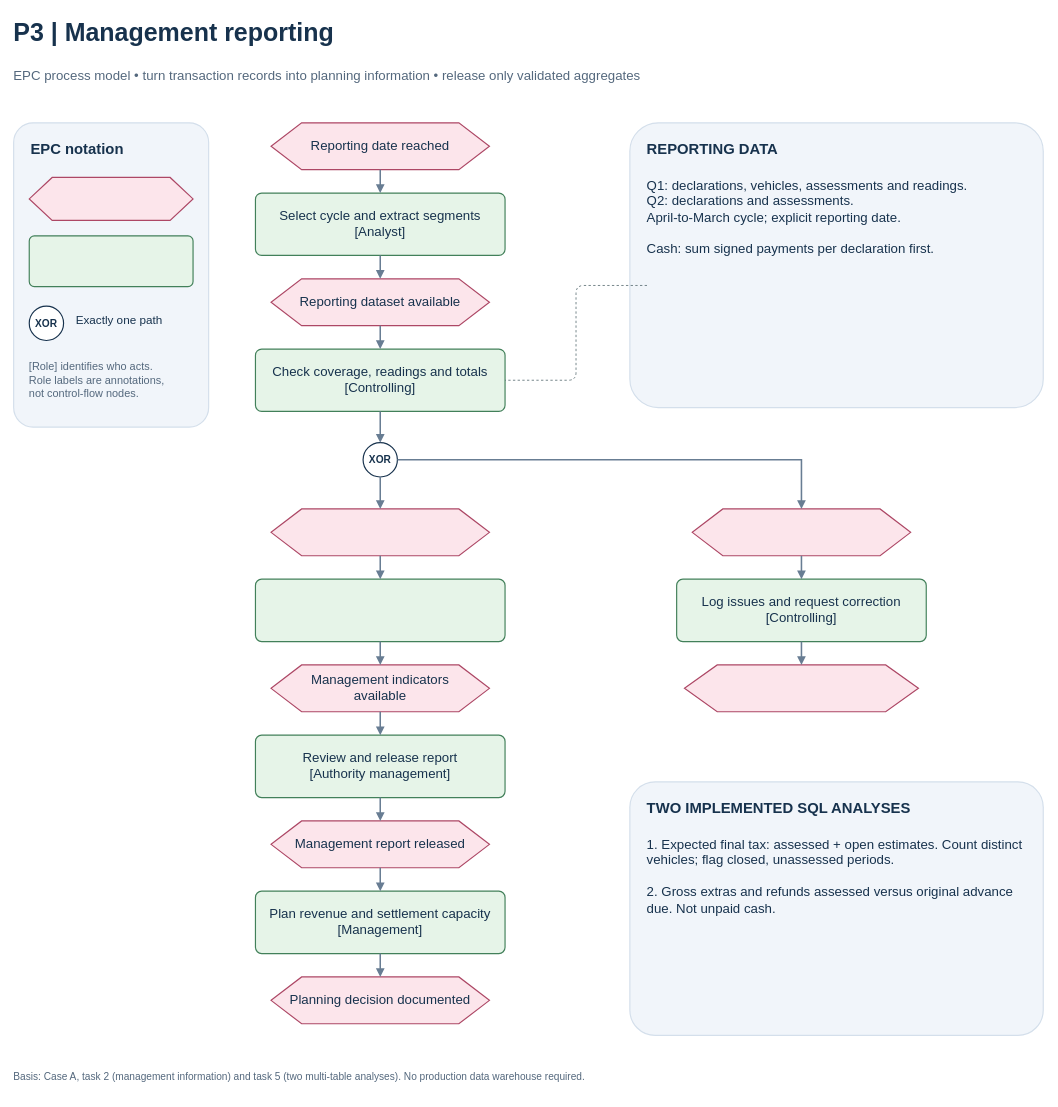
The diagram is 1058 pixels wide and 1107 high, and some of its shapes have lost their labels. The shapes that lost their labels are listed below. From the top down, each one's centre as x and y in pixels, then its label:
the point at 110,199: State / event
the point at 110,261: Action / function
the point at 380,532: Reporting data accepted
the point at 801,532: Data quality issues detected
the point at 380,610: Run forecast and gross adjustment queries [Analyst]
the point at 801,688: Report withheld; correction requested
